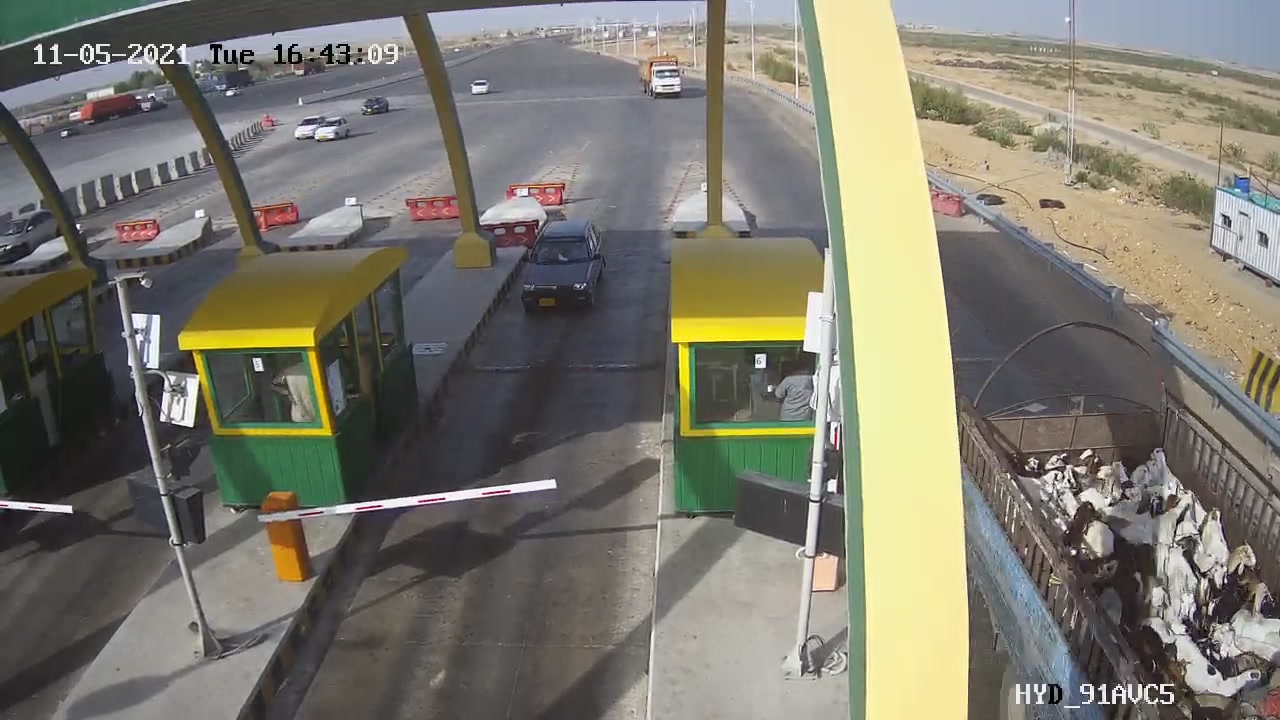F1: (496, 205, 627, 332)
